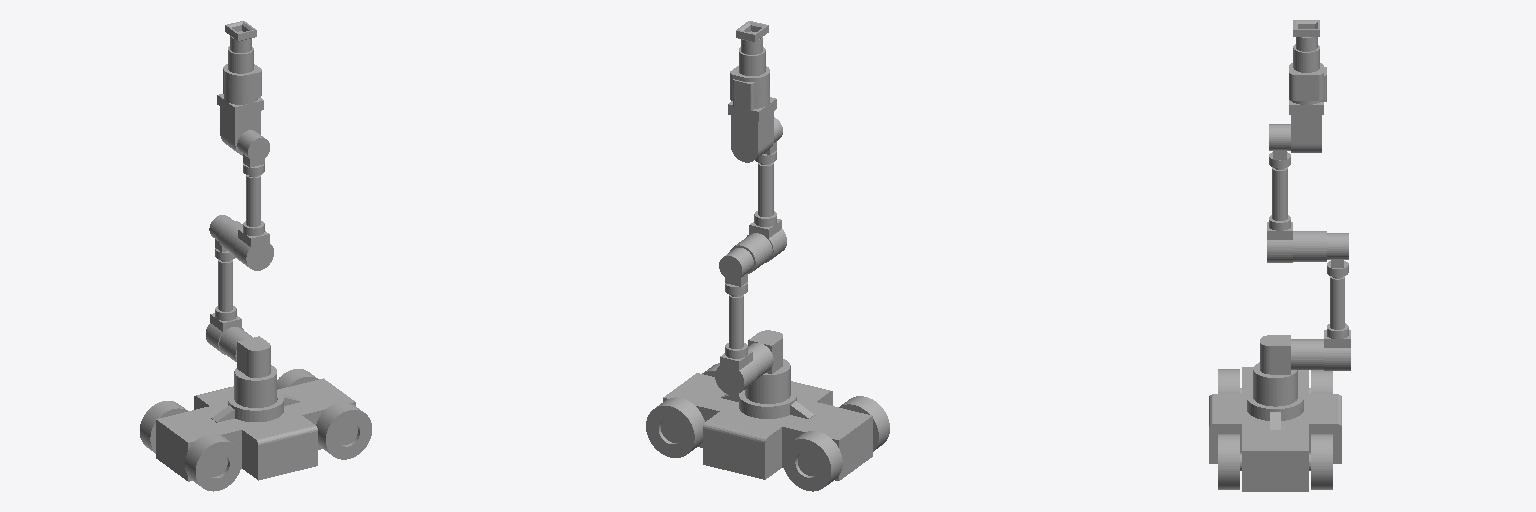
The robot description file, URDF, robot "camara_movil":
<?xml version="1.0" ?>
<!-- =================================================================================== -->
<!-- |    This document was autogenerated by xacro from camara_movil.xacro             | -->
<!-- |    EDITING THIS FILE BY HAND IS NOT RECOMMENDED                                 | -->
<!-- =================================================================================== -->
<robot name="camara_movil" xmlns:xacro="http://www.ros.org/wiki/xacro">
  <material name="silver">
    <color rgba="0.700 0.700 0.700 1.000"/>
  </material>
  <transmission name="q01_tran">
    <type>transmission_interface/SimpleTransmission</type>
    <joint name="q01">
      <hardwareInterface>hardware_interface/EffortJointInterface</hardwareInterface>
    </joint>
    <actuator name="q01_actr">
      <hardwareInterface>hardware_interface/EffortJointInterface</hardwareInterface>
      <mechanicalReduction>1</mechanicalReduction>
    </actuator>
  </transmission>
  <transmission name="q03_tran">
    <type>transmission_interface/SimpleTransmission</type>
    <joint name="q03">
      <hardwareInterface>hardware_interface/EffortJointInterface</hardwareInterface>
    </joint>
    <actuator name="q03_actr">
      <hardwareInterface>hardware_interface/EffortJointInterface</hardwareInterface>
      <mechanicalReduction>1</mechanicalReduction>
    </actuator>
  </transmission>
  <transmission name="q02_tran">
    <type>transmission_interface/SimpleTransmission</type>
    <joint name="q02">
      <hardwareInterface>hardware_interface/EffortJointInterface</hardwareInterface>
    </joint>
    <actuator name="q02_actr">
      <hardwareInterface>hardware_interface/EffortJointInterface</hardwareInterface>
      <mechanicalReduction>1</mechanicalReduction>
    </actuator>
  </transmission>
  <transmission name="q04_tran">
    <type>transmission_interface/SimpleTransmission</type>
    <joint name="q04">
      <hardwareInterface>hardware_interface/EffortJointInterface</hardwareInterface>
    </joint>
    <actuator name="q04_actr">
      <hardwareInterface>hardware_interface/EffortJointInterface</hardwareInterface>
      <mechanicalReduction>1</mechanicalReduction>
    </actuator>
  </transmission>
  <transmission name="q1_tran">
    <type>transmission_interface/SimpleTransmission</type>
    <joint name="q1">
      <hardwareInterface>hardware_interface/EffortJointInterface</hardwareInterface>
    </joint>
    <actuator name="q1_actr">
      <hardwareInterface>hardware_interface/EffortJointInterface</hardwareInterface>
      <mechanicalReduction>1</mechanicalReduction>
    </actuator>
  </transmission>
  <transmission name="q2_tran">
    <type>transmission_interface/SimpleTransmission</type>
    <joint name="q2">
      <hardwareInterface>hardware_interface/EffortJointInterface</hardwareInterface>
    </joint>
    <actuator name="q2_actr">
      <hardwareInterface>hardware_interface/EffortJointInterface</hardwareInterface>
      <mechanicalReduction>1</mechanicalReduction>
    </actuator>
  </transmission>
  <transmission name="q3_tran">
    <type>transmission_interface/SimpleTransmission</type>
    <joint name="q3">
      <hardwareInterface>hardware_interface/EffortJointInterface</hardwareInterface>
    </joint>
    <actuator name="q3_actr">
      <hardwareInterface>hardware_interface/EffortJointInterface</hardwareInterface>
      <mechanicalReduction>1</mechanicalReduction>
    </actuator>
  </transmission>
  <transmission name="q5_tran">
    <type>transmission_interface/SimpleTransmission</type>
    <joint name="q5">
      <hardwareInterface>hardware_interface/EffortJointInterface</hardwareInterface>
    </joint>
    <actuator name="q5_actr">
      <hardwareInterface>hardware_interface/EffortJointInterface</hardwareInterface>
      <mechanicalReduction>1</mechanicalReduction>
    </actuator>
  </transmission>
  <transmission name="q4_tran">
    <type>transmission_interface/SimpleTransmission</type>
    <joint name="q4">
      <hardwareInterface>hardware_interface/EffortJointInterface</hardwareInterface>
    </joint>
    <actuator name="q4_actr">
      <hardwareInterface>hardware_interface/EffortJointInterface</hardwareInterface>
      <mechanicalReduction>1</mechanicalReduction>
    </actuator>
  </transmission>
  <transmission name="q7_tran">
    <type>transmission_interface/SimpleTransmission</type>
    <joint name="q7">
      <hardwareInterface>hardware_interface/EffortJointInterface</hardwareInterface>
    </joint>
    <actuator name="q7_actr">
      <hardwareInterface>hardware_interface/EffortJointInterface</hardwareInterface>
      <mechanicalReduction>1</mechanicalReduction>
    </actuator>
  </transmission>
  <transmission name="q6_tran">
    <type>transmission_interface/SimpleTransmission</type>
    <joint name="q6">
      <hardwareInterface>hardware_interface/EffortJointInterface</hardwareInterface>
    </joint>
    <actuator name="q6_actr">
      <hardwareInterface>hardware_interface/EffortJointInterface</hardwareInterface>
      <mechanicalReduction>1</mechanicalReduction>
    </actuator>
  </transmission>
  <gazebo>
    <plugin filename="libgazebo_ros_control.so" name="control"/>
  </gazebo>
  <gazebo reference="base_link">
    <material>Gazebo/Silver</material>
    <mu1>0.2</mu1>
    <mu2>0.2</mu2>
    <selfCollide>true</selfCollide>
    <gravity>true</gravity>
  </gazebo>
  <gazebo reference="l01_1">
    <material>Gazebo/Silver</material>
    <mu1>0.2</mu1>
    <mu2>0.2</mu2>
    <selfCollide>true</selfCollide>
  </gazebo>
  <gazebo reference="l03_1">
    <material>Gazebo/Silver</material>
    <mu1>0.2</mu1>
    <mu2>0.2</mu2>
    <selfCollide>true</selfCollide>
  </gazebo>
  <gazebo reference="l02_1">
    <material>Gazebo/Silver</material>
    <mu1>0.2</mu1>
    <mu2>0.2</mu2>
    <selfCollide>true</selfCollide>
  </gazebo>
  <gazebo reference="l04_1">
    <material>Gazebo/Silver</material>
    <mu1>0.2</mu1>
    <mu2>0.2</mu2>
    <selfCollide>true</selfCollide>
  </gazebo>
  <gazebo reference="l1_1">
    <material>Gazebo/Silver</material>
    <mu1>0.2</mu1>
    <mu2>0.2</mu2>
    <selfCollide>true</selfCollide>
  </gazebo>
  <gazebo reference="l2_1">
    <material>Gazebo/Silver</material>
    <mu1>0.2</mu1>
    <mu2>0.2</mu2>
    <selfCollide>true</selfCollide>
  </gazebo>
  <gazebo reference="l3_1">
    <material>Gazebo/Silver</material>
    <mu1>0.2</mu1>
    <mu2>0.2</mu2>
    <selfCollide>true</selfCollide>
  </gazebo>
  <gazebo reference="l5_1">
    <material>Gazebo/Silver</material>
    <mu1>0.2</mu1>
    <mu2>0.2</mu2>
    <selfCollide>true</selfCollide>
  </gazebo>
  <gazebo reference="l4_1">
    <material>Gazebo/Silver</material>
    <mu1>0.2</mu1>
    <mu2>0.2</mu2>
    <selfCollide>true</selfCollide>
  </gazebo>
  <gazebo reference="l7_1">
    <material>Gazebo/Silver</material>
    <mu1>0.2</mu1>
    <mu2>0.2</mu2>
    <selfCollide>true</selfCollide>
  </gazebo>
  <gazebo reference="l6_1">
    <material>Gazebo/Silver</material>
    <mu1>0.2</mu1>
    <mu2>0.2</mu2>
    <selfCollide>true</selfCollide>
  </gazebo>
  <link name="base_link">
    <inertial>
      <origin rpy="0 0 0" xyz="-0.011436842088571233 1.5012186169488358e-06 0.12659588390377294"/>
      <mass value="588.3357714913217"/>
      <inertia ixx="13.487101" ixy="-0.000143" ixz="0.000678" iyy="33.233797" iyz="-0.000101" izz="42.588403"/>
    </inertial>
    <visual>
      <origin rpy="0 0 0" xyz="0 0 0"/>
      <geometry>
        <mesh filename="package://camara_movil_description/meshes/base_link.stl" scale="0.001 0.001 0.001"/>
      </geometry>
      <material name="silver"/>
    </visual>
    <collision>
      <origin rpy="0 0 0" xyz="0 0 0"/>
      <geometry>
        <mesh filename="package://camara_movil_description/meshes/base_link.stl" scale="0.001 0.001 0.001"/>
      </geometry>
    </collision>
  </link>
  <link name="l01_1">
    <inertial>
      <origin rpy="0 0 0" xyz="2.812679527064432e-07 0.0006238922367959587 2.7327584889436096e-08"/>
      <mass value="34.78504903742396"/>
      <inertia ixx="0.175688" ixy="0.0" ixz="-0.0" iyy="0.296269" iyz="0.0" izz="0.175688"/>
    </inertial>
    <visual>
      <origin rpy="0 0 0" xyz="-0.338573 0.21 -0.125029"/>
      <geometry>
        <mesh filename="package://camara_movil_description/meshes/l01_1.stl" scale="0.001 0.001 0.001"/>
      </geometry>
      <material name="silver"/>
    </visual>
    <collision>
      <origin rpy="0 0 0" xyz="-0.338573 0.21 -0.125029"/>
      <geometry>
        <mesh filename="package://camara_movil_description/meshes/l01_1.stl" scale="0.001 0.001 0.001"/>
      </geometry>
    </collision>
  </link>
  <link name="l03_1">
    <inertial>
      <origin rpy="0 0 0" xyz="2.812679526509321e-07 0.0006238922367957089 2.732756593237795e-08"/>
      <mass value="34.78504903742395"/>
      <inertia ixx="0.175688" ixy="0.0" ixz="0.0" iyy="0.296269" iyz="-0.0" izz="0.175688"/>
    </inertial>
    <visual>
      <origin rpy="0 0 0" xyz="0.361427 0.21 -0.125029"/>
      <geometry>
        <mesh filename="package://camara_movil_description/meshes/l03_1.stl" scale="0.001 0.001 0.001"/>
      </geometry>
      <material name="silver"/>
    </visual>
    <collision>
      <origin rpy="0 0 0" xyz="0.361427 0.21 -0.125029"/>
      <geometry>
        <mesh filename="package://camara_movil_description/meshes/l03_1.stl" scale="0.001 0.001 0.001"/>
      </geometry>
    </collision>
  </link>
  <link name="l02_1">
    <inertial>
      <origin rpy="0 0 0" xyz="2.812679525954209e-07 -0.0006238922367951261 2.73275850004584e-08"/>
      <mass value="34.78504903742397"/>
      <inertia ixx="0.175688" ixy="-0.0" ixz="-0.0" iyy="0.296269" iyz="-0.0" izz="0.175688"/>
    </inertial>
    <visual>
      <origin rpy="0 0 0" xyz="-0.338573 -0.21 -0.125029"/>
      <geometry>
        <mesh filename="package://camara_movil_description/meshes/l02_1.stl" scale="0.001 0.001 0.001"/>
      </geometry>
      <material name="silver"/>
    </visual>
    <collision>
      <origin rpy="0 0 0" xyz="-0.338573 -0.21 -0.125029"/>
      <geometry>
        <mesh filename="package://camara_movil_description/meshes/l02_1.stl" scale="0.001 0.001 0.001"/>
      </geometry>
    </collision>
  </link>
  <link name="l04_1">
    <inertial>
      <origin rpy="0 0 0" xyz="2.812679525954209e-07 -0.0006238922367951538 2.7327565987889102e-08"/>
      <mass value="34.78504903742397"/>
      <inertia ixx="0.175688" ixy="0.0" ixz="0.0" iyy="0.296269" iyz="0.0" izz="0.175688"/>
    </inertial>
    <visual>
      <origin rpy="0 0 0" xyz="0.361427 -0.21 -0.125029"/>
      <geometry>
        <mesh filename="package://camara_movil_description/meshes/l04_1.stl" scale="0.001 0.001 0.001"/>
      </geometry>
      <material name="silver"/>
    </visual>
    <collision>
      <origin rpy="0 0 0" xyz="0.361427 -0.21 -0.125029"/>
      <geometry>
        <mesh filename="package://camara_movil_description/meshes/l04_1.stl" scale="0.001 0.001 0.001"/>
      </geometry>
    </collision>
  </link>
  <link name="l1_1">
    <inertial>
      <origin rpy="0 0 0" xyz="2.8126794662623744e-07 1.947930098151865e-05 0.17518976679685583"/>
      <mass value="72.03249808197829"/>
      <inertia ixx="0.867804" ixy="-0.0" ixz="0.0" iyy="0.863984" iyz="-0.000203" izz="0.307498"/>
    </inertial>
    <visual>
      <origin rpy="0 0 0" xyz="0.011427 -0.0 -0.175029"/>
      <geometry>
        <mesh filename="package://camara_movil_description/meshes/l1_1.stl" scale="0.001 0.001 0.001"/>
      </geometry>
      <material name="silver"/>
    </visual>
    <collision>
      <origin rpy="0 0 0" xyz="0.011427 -0.0 -0.175029"/>
      <geometry>
        <mesh filename="package://camara_movil_description/meshes/l1_1.stl" scale="0.001 0.001 0.001"/>
      </geometry>
    </collision>
  </link>
  <link name="l2_1">
    <inertial>
      <origin rpy="0 0 0" xyz="2.8126794134400446e-07 0.19760361530970827 0.032595348936150736"/>
      <mass value="44.90659325604421"/>
      <inertia ixx="0.626775" ixy="0.0" ixz="0.0" iyy="0.378961" iyz="-0.091332" izz="0.351975"/>
    </inertial>
    <visual>
      <origin rpy="0 0 0" xyz="0.011427 -0.02 -0.495029"/>
      <geometry>
        <mesh filename="package://camara_movil_description/meshes/l2_1.stl" scale="0.001 0.001 0.001"/>
      </geometry>
      <material name="silver"/>
    </visual>
    <collision>
      <origin rpy="0 0 0" xyz="0.011427 -0.02 -0.495029"/>
      <geometry>
        <mesh filename="package://camara_movil_description/meshes/l2_1.stl" scale="0.001 0.001 0.001"/>
      </geometry>
    </collision>
  </link>
  <link name="l3_1">
    <inertial>
      <origin rpy="0 0 0" xyz="2.8126793094607194e-07 0.0023947375388668757 0.3246782060627731"/>
      <mass value="15.76912911354063"/>
      <inertia ixx="0.275689" ixy="0.0" ixz="0.0" iyy="0.277554" iyz="-0.003977" izz="0.019277"/>
    </inertial>
    <visual>
      <origin rpy="0 0 0" xyz="0.011427 -0.28 -0.605029"/>
      <geometry>
        <mesh filename="package://camara_movil_description/meshes/l3_1.stl" scale="0.001 0.001 0.001"/>
      </geometry>
      <material name="silver"/>
    </visual>
    <collision>
      <origin rpy="0 0 0" xyz="0.011427 -0.28 -0.605029"/>
      <geometry>
        <mesh filename="package://camara_movil_description/meshes/l3_1.stl" scale="0.001 0.001 0.001"/>
      </geometry>
    </collision>
  </link>
  <link name="l5_1">
    <inertial>
      <origin rpy="0 0 0" xyz="2.8126791493977843e-07 -0.002394737538907059 0.3246782060627609"/>
      <mass value="15.769129113540673"/>
      <inertia ixx="0.275689" ixy="-0.0" ixz="0.0" iyy="0.277554" iyz="0.003977" izz="0.019277"/>
    </inertial>
    <visual>
      <origin rpy="0 0 0" xyz="0.011427 -0.02 -1.145029"/>
      <geometry>
        <mesh filename="package://camara_movil_description/meshes/l5_1.stl" scale="0.001 0.001 0.001"/>
      </geometry>
      <material name="silver"/>
    </visual>
    <collision>
      <origin rpy="0 0 0" xyz="0.011427 -0.02 -1.145029"/>
      <geometry>
        <mesh filename="package://camara_movil_description/meshes/l5_1.stl" scale="0.001 0.001 0.001"/>
      </geometry>
    </collision>
  </link>
  <link name="l4_1">
    <inertial>
      <origin rpy="0 0 0" xyz="2.8126792714876225e-07 -0.197603615309756 0.03259534893614391"/>
      <mass value="44.90659325604385"/>
      <inertia ixx="0.626775" ixy="-0.0" ixz="0.0" iyy="0.378961" iyz="0.091332" izz="0.351975"/>
    </inertial>
    <visual>
      <origin rpy="0 0 0" xyz="0.011427 -0.28 -1.035029"/>
      <geometry>
        <mesh filename="package://camara_movil_description/meshes/l4_1.stl" scale="0.001 0.001 0.001"/>
      </geometry>
      <material name="silver"/>
    </visual>
    <collision>
      <origin rpy="0 0 0" xyz="0.011427 -0.28 -1.035029"/>
      <geometry>
        <mesh filename="package://camara_movil_description/meshes/l4_1.stl" scale="0.001 0.001 0.001"/>
      </geometry>
    </collision>
  </link>
  <link name="l7_1">
    <inertial>
      <origin rpy="0 0 0" xyz="0.002659248732124456 0.0020974782046724594 0.10869578686101766"/>
      <mass value="51.218441413325046"/>
      <inertia ixx="0.655289" ixy="0.00096" ixz="0.003136" iyy="0.646554" iyz="0.004874" izz="0.173279"/>
    </inertial>
    <visual>
      <origin rpy="0 0 0" xyz="0.011427 -0.14 -1.775029"/>
      <geometry>
        <mesh filename="package://camara_movil_description/meshes/l7_1.stl" scale="0.001 0.001 0.001"/>
      </geometry>
      <material name="silver"/>
    </visual>
    <collision>
      <origin rpy="0 0 0" xyz="0.011427 -0.14 -1.775029"/>
      <geometry>
        <mesh filename="package://camara_movil_description/meshes/l7_1.stl" scale="0.001 0.001 0.001"/>
      </geometry>
    </collision>
  </link>
  <link name="l6_1">
    <inertial>
      <origin rpy="0 0 0" xyz="2.812679069132129e-07 0.11584769784683084 0.050463419712759805"/>
      <mass value="34.55892933493254"/>
      <inertia ixx="0.207811" ixy="0.0" ixz="0.0" iyy="0.191468" iyz="-0.007241" izz="0.114309"/>
    </inertial>
    <visual>
      <origin rpy="0 0 0" xyz="0.011427 -0.02 -1.575029"/>
      <geometry>
        <mesh filename="package://camara_movil_description/meshes/l6_1.stl" scale="0.001 0.001 0.001"/>
      </geometry>
      <material name="silver"/>
    </visual>
    <collision>
      <origin rpy="0 0 0" xyz="0.011427 -0.02 -1.575029"/>
      <geometry>
        <mesh filename="package://camara_movil_description/meshes/l6_1.stl" scale="0.001 0.001 0.001"/>
      </geometry>
    </collision>
  </link>
  <joint name="q01" type="continuous">
    <origin rpy="0 0 0" xyz="0.338573 -0.21 0.125029"/>
    <parent link="base_link"/>
    <child link="l01_1"/>
    <axis xyz="0.0 -1.0 -0.0"/>
  </joint>
  <joint name="q03" type="continuous">
    <origin rpy="0 0 0" xyz="-0.361427 -0.21 0.125029"/>
    <parent link="base_link"/>
    <child link="l03_1"/>
    <axis xyz="0.0 -1.0 -0.0"/>
  </joint>
  <joint name="q02" type="continuous">
    <origin rpy="0 0 0" xyz="0.338573 0.21 0.125029"/>
    <parent link="base_link"/>
    <child link="l02_1"/>
    <axis xyz="-0.0 1.0 0.0"/>
  </joint>
  <joint name="q04" type="continuous">
    <origin rpy="0 0 0" xyz="-0.361427 0.21 0.125029"/>
    <parent link="base_link"/>
    <child link="l04_1"/>
    <axis xyz="-0.0 1.0 0.0"/>
  </joint>
  <joint name="q1" type="revolute">
    <origin rpy="0 0 0" xyz="-0.011427 0.0 0.175029"/>
    <parent link="base_link"/>
    <child link="l1_1"/>
    <axis xyz="-0.0 -0.0 1.0"/>
    <limit effort="28.0" lower="-6.28318530718" upper="6.28318530718" velocity="3.2"/>
  </joint>
  <joint name="q2" type="revolute">
    <origin rpy="0 0 0" xyz="0.0 0.02 0.32"/>
    <parent link="l1_1"/>
    <child link="l2_1"/>
    <axis xyz="-0.0 1.0 -0.0"/>
    <limit effort="28.0" lower="-6.28318530718" upper="6.28318530718" velocity="3.2"/>
  </joint>
  <joint name="q3" type="prismatic">
    <origin rpy="0 0 0" xyz="0.0 0.26 0.11"/>
    <parent link="l2_1"/>
    <child link="l3_1"/>
    <axis xyz="-0.0 -0.0 1.0"/>
    <limit effort="100" lower="0.0" upper="0.25" velocity="100.0"/>
  </joint>
  <joint name="q5" type="prismatic">
    <origin rpy="0 0 0" xyz="0.0 -0.26 0.11"/>
    <parent link="l4_1"/>
    <child link="l5_1"/>
    <axis xyz="-0.0 -0.0 1.0"/>
    <limit effort="100" lower="0.0" upper="0.25" velocity="100.0"/>
  </joint>
  <joint name="q4" type="revolute">
    <origin rpy="0 0 0" xyz="0.0 0.0 0.43"/>
    <parent link="l3_1"/>
    <child link="l4_1"/>
    <axis xyz="0.0 -1.0 -0.0"/>
    <limit effort="28.0" lower="-6.28318530718" upper="6.28318530718" velocity="3.2"/>
  </joint>
  <joint name="q7" type="revolute">
    <origin rpy="0 0 0" xyz="0.0 0.12 0.2"/>
    <parent link="l6_1"/>
    <child link="l7_1"/>
    <axis xyz="-0.0 -0.0 1.0"/>
    <limit effort="28.0" lower="-6.28318530718" upper="6.28318530718" velocity="3.2"/>
  </joint>
  <joint name="q6" type="revolute">
    <origin rpy="0 0 0" xyz="0.0 0.0 0.43"/>
    <parent link="l5_1"/>
    <child link="l6_1"/>
    <axis xyz="-0.0 1.0 0.0"/>
    <limit effort="28.0" lower="-6.28318530718" upper="6.28318530718" velocity="3.2"/>
  </joint>
</robot>

--- Render facts (derived) ---
The picture shows the robot from 3 angles, left to right: view 1: azimuth 30°, elevation 25°; view 2: azimuth 150°, elevation 25°; view 3: azimuth 270°, elevation 25°; orthographic projection.
Robot: camara_movil — 12 links, 11 joints (5 revolute, 4 continuous, 2 prismatic); root link base_link; default pose: all joints at 0.
Visible links, largest first — view 1: base_link, l7_1, l4_1, l1_1, l03_1, l01_1, l2_1, l5_1, l6_1, l04_1, l3_1; view 2: base_link, l7_1, l2_1, l04_1, l02_1, l4_1, l1_1, l6_1, l3_1, l03_1; view 3: base_link, l7_1, l4_1, l2_1, l1_1, l01_1, l02_1, l6_1, l5_1, l3_1, l03_1.
Link boxes in pixels (x1,y1,x2,y2): base_link: [156, 378, 355, 481]; l7_1: [217, 21, 263, 116]; l4_1: [218, 175, 273, 270]; l1_1: [234, 336, 276, 407]; l03_1: [185, 434, 241, 491]; l01_1: [316, 402, 371, 459]; l2_1: [206, 259, 252, 361]; l5_1: [237, 130, 269, 177]; l6_1: [220, 107, 260, 155]; l04_1: [140, 401, 187, 453]; l3_1: [209, 215, 235, 261]; base_link: [663, 373, 872, 480]; l7_1: [728, 21, 776, 121]; l2_1: [715, 295, 773, 394]; l04_1: [783, 431, 842, 491]; l02_1: [646, 397, 704, 457]; l4_1: [729, 162, 786, 273]; l1_1: [745, 330, 790, 403]; l6_1: [731, 111, 773, 162]; l3_1: [719, 248, 753, 296]; l03_1: [839, 396, 889, 451]; base_link: [1209, 367, 1341, 491]; l7_1: [1289, 20, 1326, 114]; l4_1: [1267, 167, 1326, 262]; l2_1: [1291, 276, 1350, 370]; l1_1: [1253, 335, 1297, 406]; l01_1: [1218, 434, 1239, 489]; l02_1: [1311, 434, 1332, 489]; l6_1: [1291, 115, 1321, 152]; l5_1: [1269, 124, 1290, 169]; l3_1: [1327, 233, 1348, 278]; l03_1: [1218, 369, 1239, 393].
Size in the robot's own frame: 0.9499 by 0.64 by 2.13 metres.
12 mesh visuals loaded from 12 distinct referenced files (12 binary STL).
